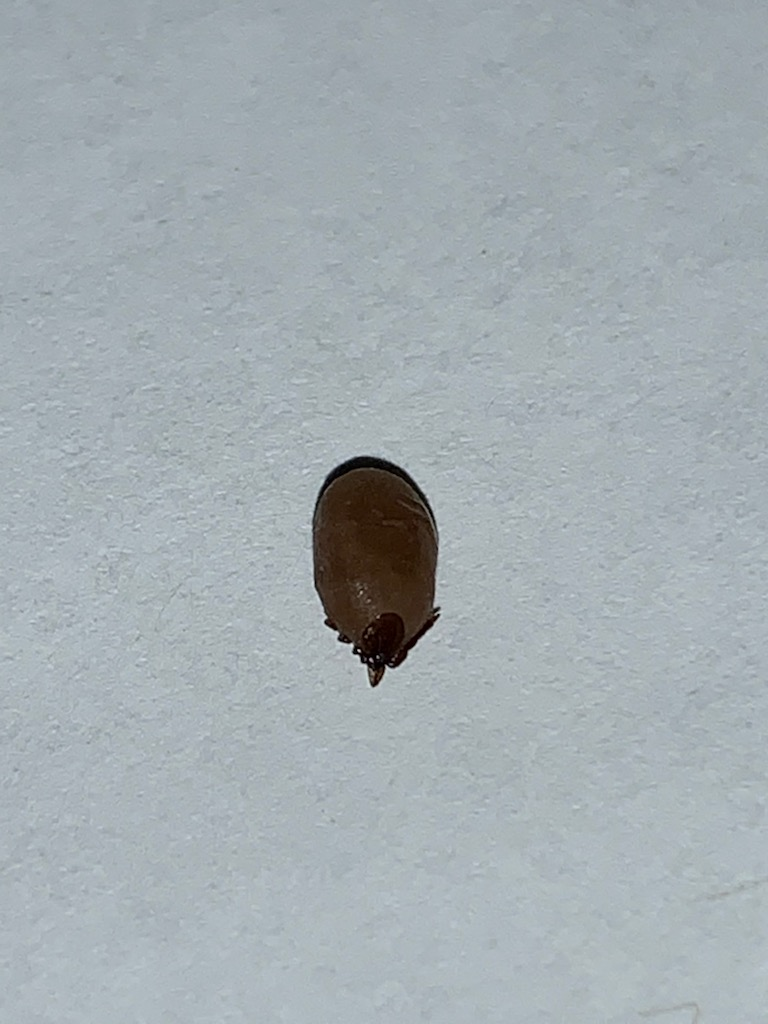unlabelled_tick: (285, 455, 447, 699)
